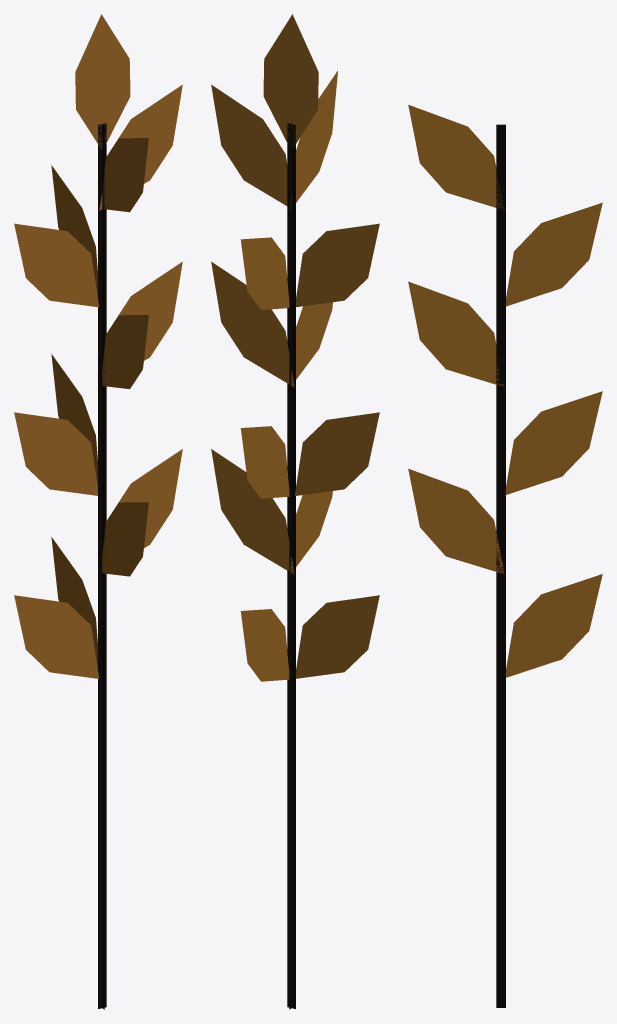
File: Cerials_A.obj
The picture shows the model from 3 angles, left to right: view 1: azimuth 30°, elevation 25°; view 2: azimuth 150°, elevation 25°; view 3: azimuth 270°, elevation 25°; orthographic projection.
Parts seen in each view (by area): view 1: Cerials_A; view 2: Cerials_A; view 3: Cerials_A.
Boxes of the visible parts, <box> form: Cerials_A: <box>14,14,182,1009</box>; Cerials_A: <box>211,14,379,1009</box>; Cerials_A: <box>408,105,602,1007</box>.
Size of the model in its own units: 1.42 by 7.97 by 1.42.
